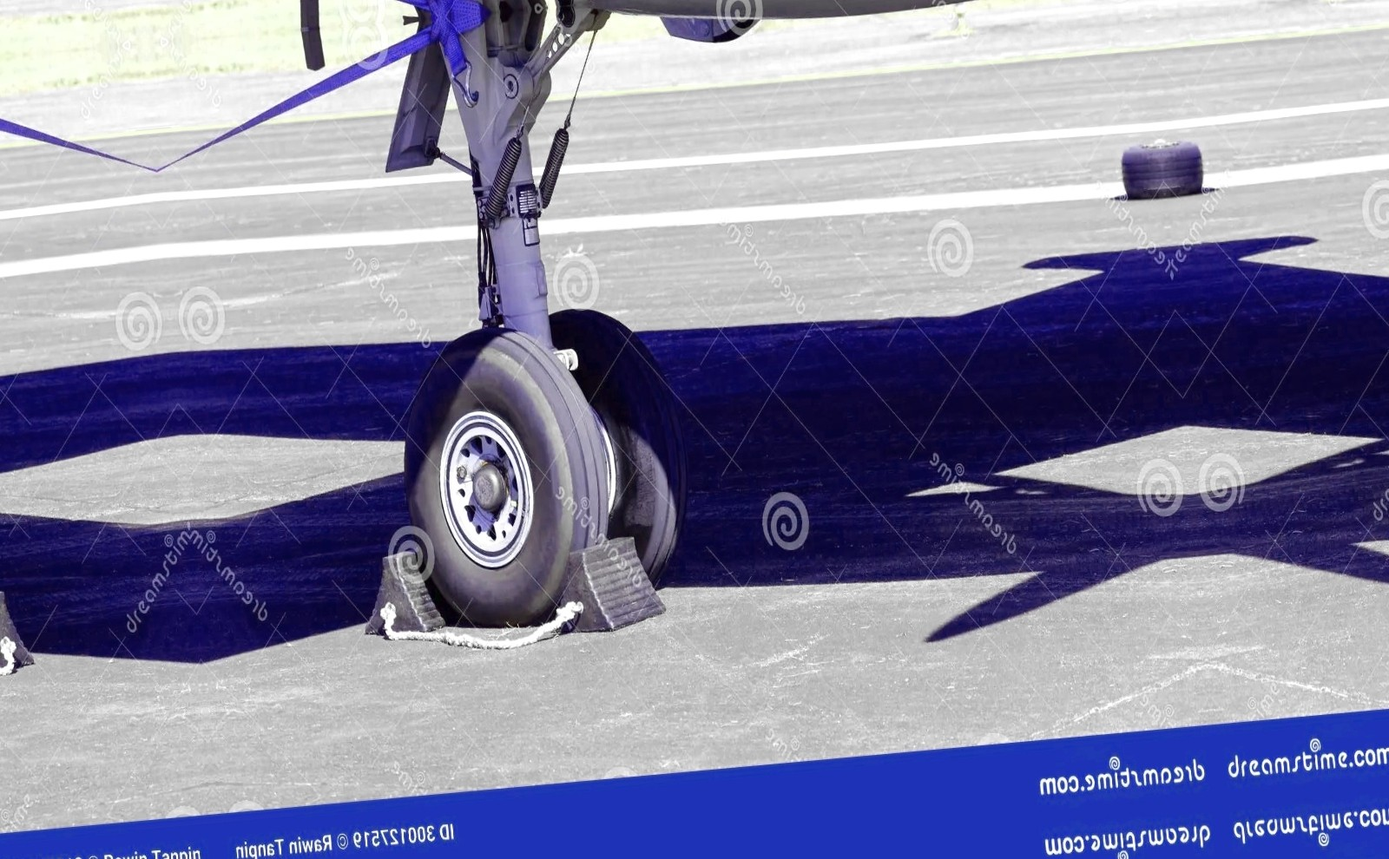chock: (551, 531, 672, 639), (357, 545, 448, 646), (0, 582, 36, 684)
wheel: (392, 317, 622, 632), (543, 297, 700, 599), (1118, 141, 1165, 203), (1161, 137, 1207, 199)
